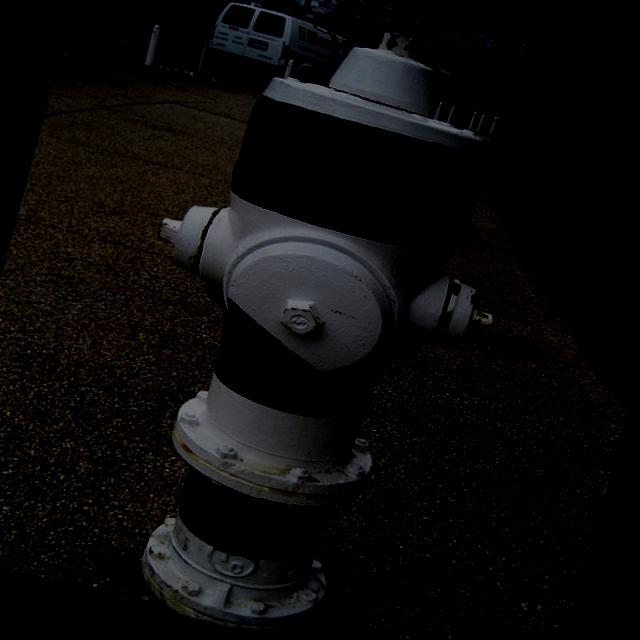Vehicle: (198, 0, 357, 106), (424, 74, 489, 132)
